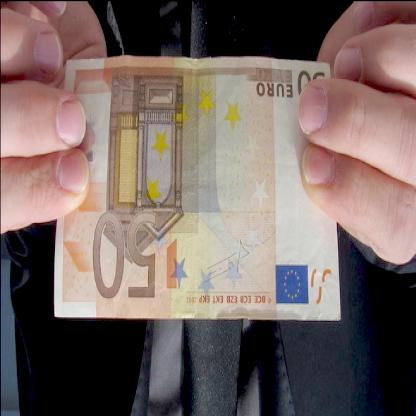euro_banknote: (57, 59, 345, 320)
